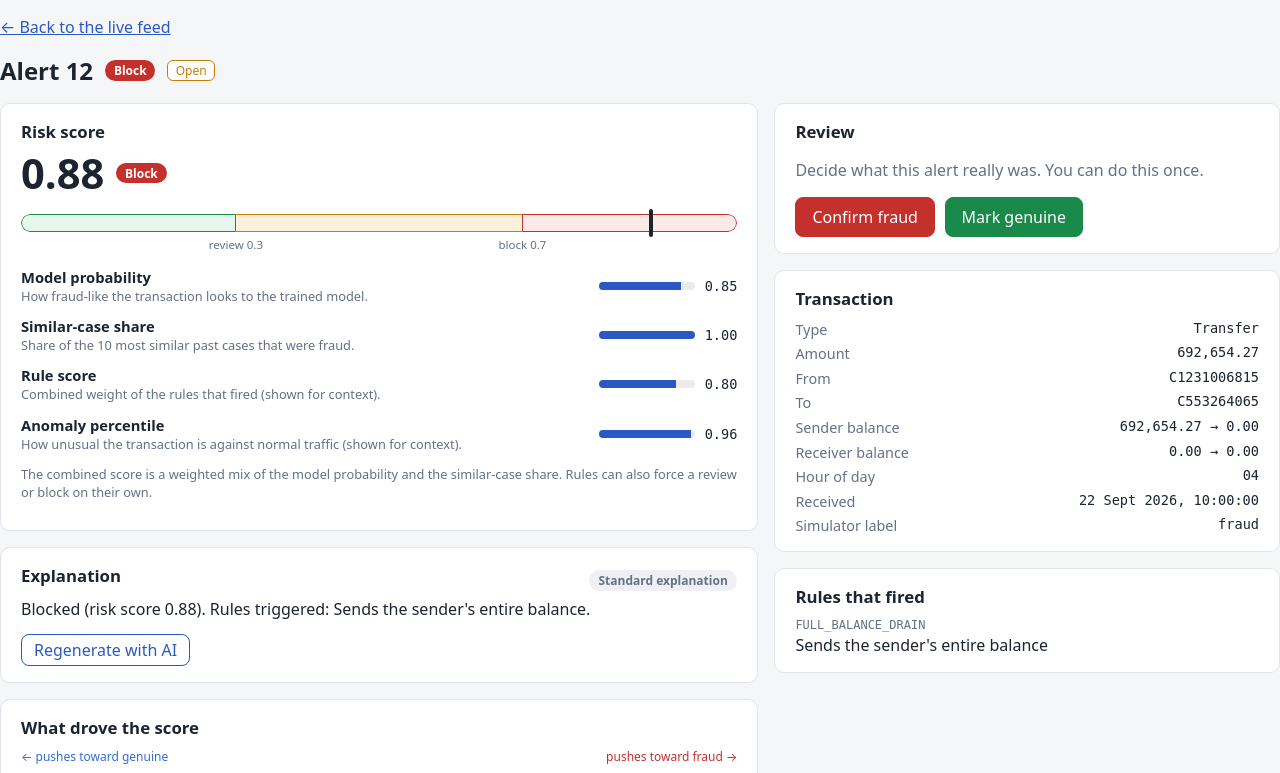
Test: AlertPage › changes the status after a verdict and blocks a second one
Click the button "Confirm fraud": click(865, 217) [795,197,935,237]
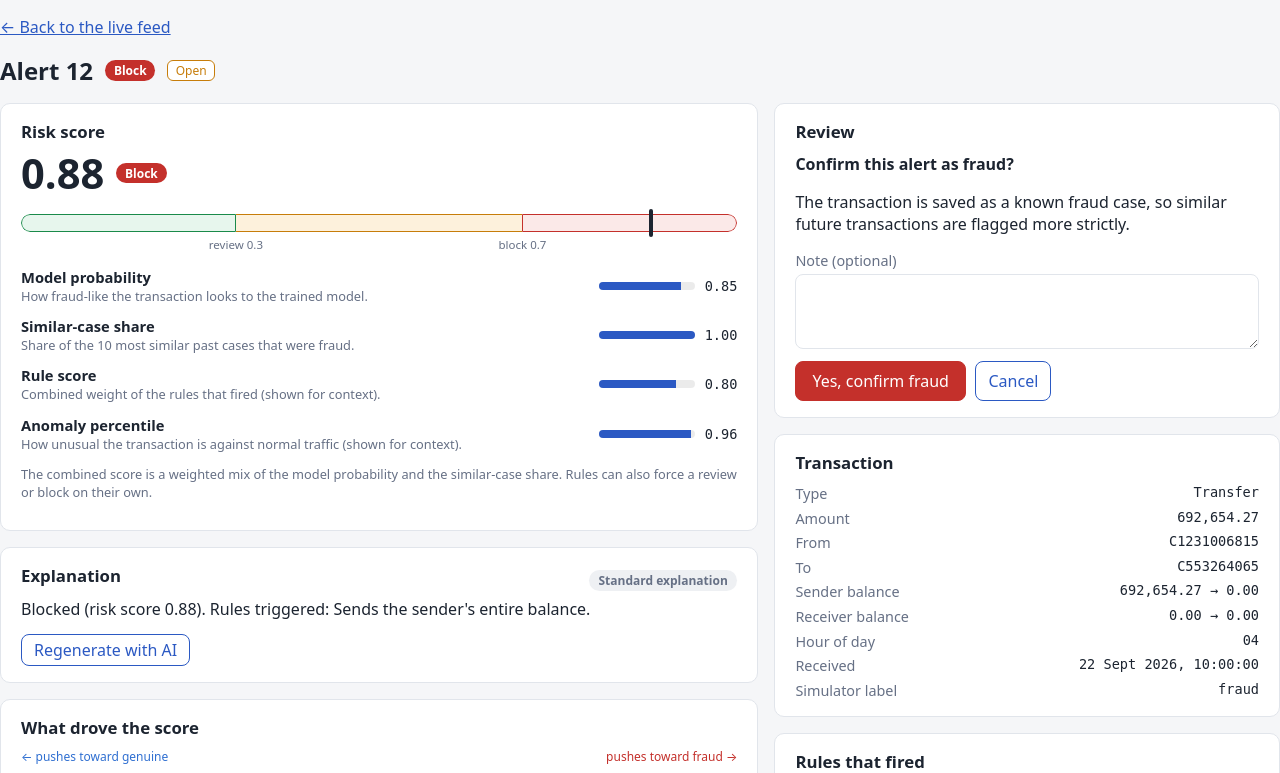
Click the button "Yes, confirm fraud": click(881, 381) [795,361,966,401]
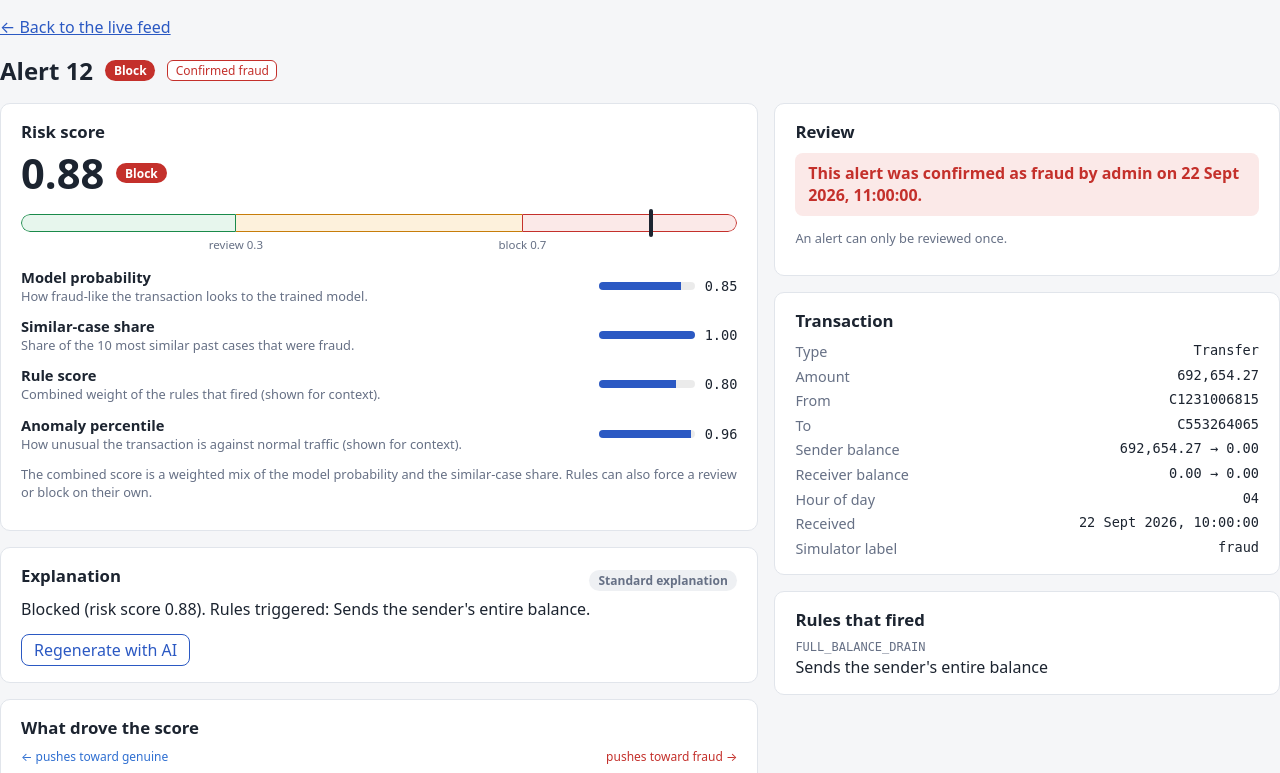
Check: the message with test id "review-result" shows "confirmed as fraud by admin", box [795,153,1259,216]
Check: the text with test id "alert-status" reads "Confirmed fraud", box [176,62,269,79]
Check: the button "confirm fraud" is gone
